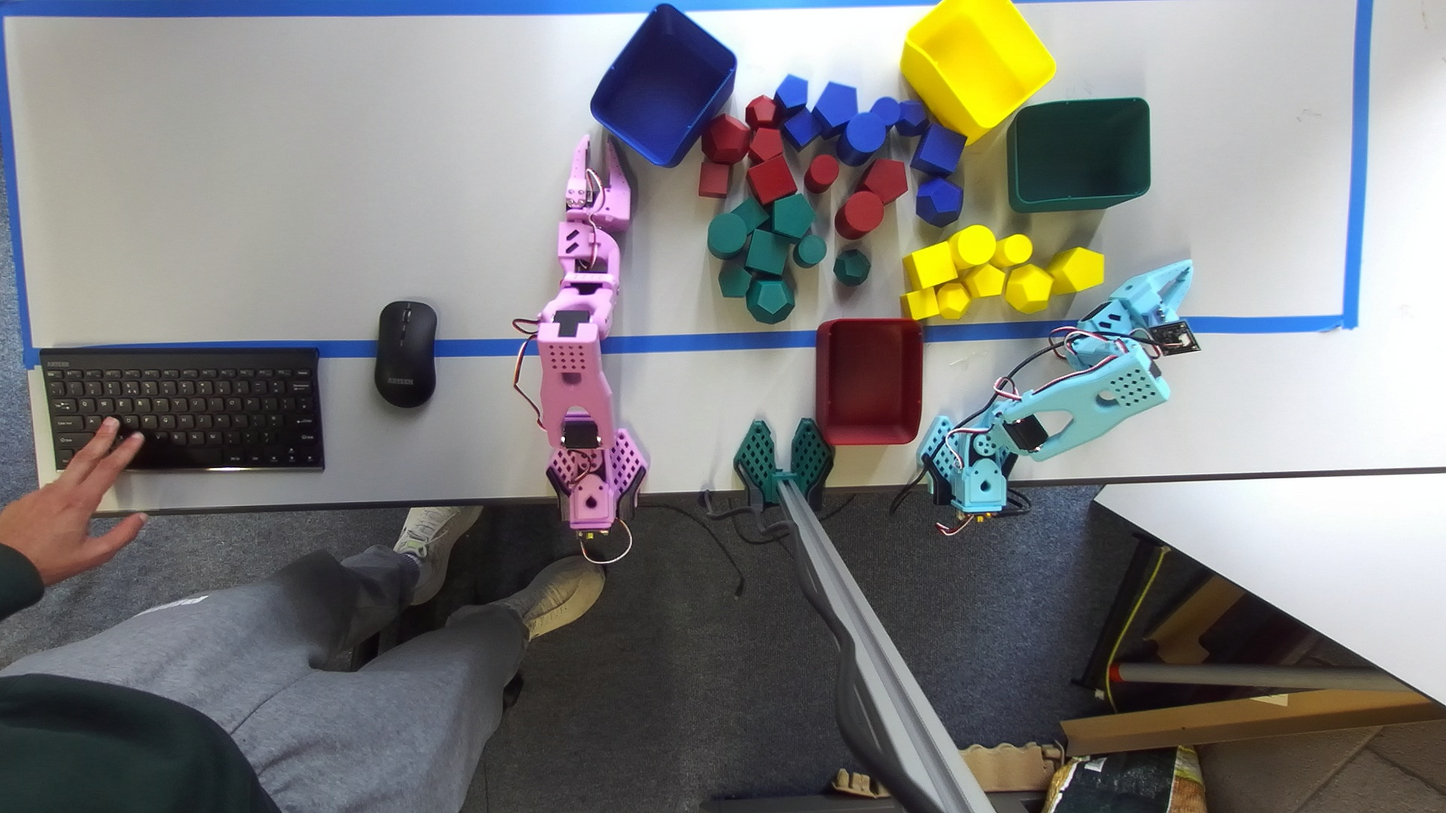bin: (590, 5, 736, 167), (900, 0, 1055, 144), (1006, 97, 1150, 212), (815, 318, 923, 445)
cube: (911, 123, 966, 175), (902, 242, 956, 289), (746, 157, 797, 205), (745, 229, 787, 276), (783, 111, 816, 149), (732, 197, 768, 231), (900, 287, 938, 319), (698, 161, 731, 197)
cylinder: (837, 112, 886, 166), (834, 190, 883, 239), (949, 224, 995, 270), (707, 212, 747, 258), (993, 234, 1032, 269), (804, 154, 839, 193), (793, 233, 826, 267), (870, 96, 899, 126)
dodecahedron: (701, 114, 750, 165), (1004, 263, 1052, 312), (916, 178, 962, 227), (746, 279, 795, 323), (935, 281, 971, 319), (833, 249, 871, 285), (895, 100, 929, 136), (745, 95, 777, 129)
gripper: (565, 135, 630, 232), (1110, 259, 1192, 327)
hexagonal: (1046, 247, 1103, 294), (813, 82, 857, 138), (860, 159, 908, 203), (771, 193, 815, 240), (961, 263, 1005, 297), (773, 75, 807, 116), (749, 127, 782, 162), (717, 266, 752, 297)
